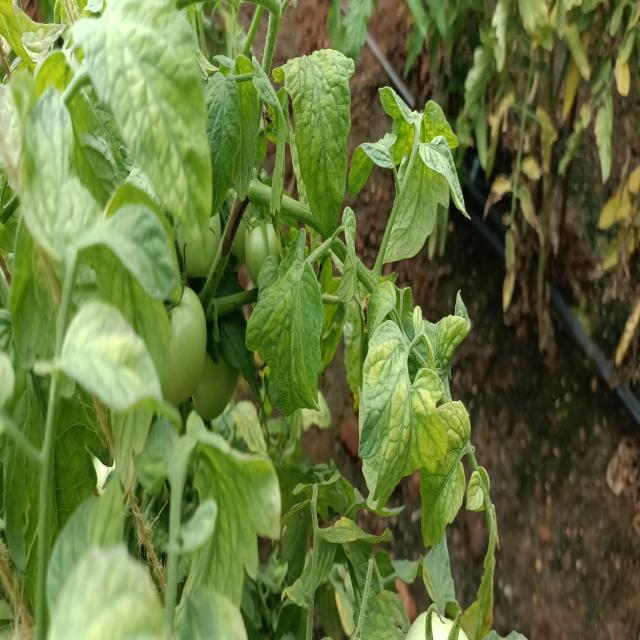Healthy Leaf: (279, 28, 351, 240), (256, 248, 329, 430), (202, 56, 249, 202)
